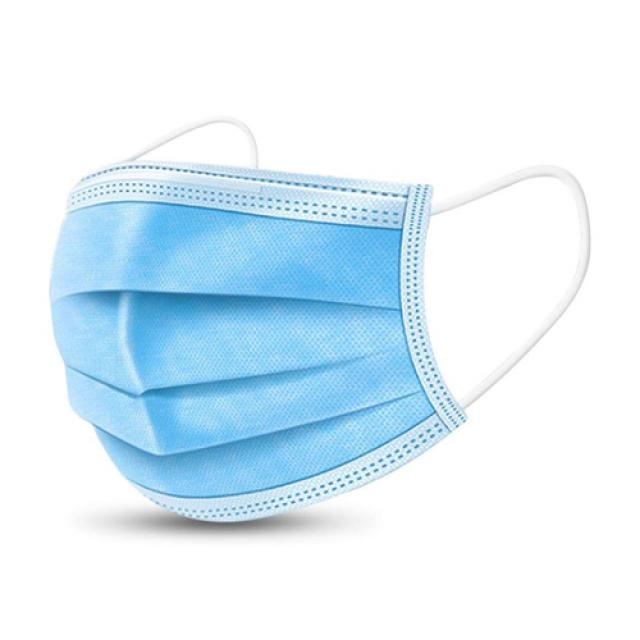non-organic waste: (42, 130, 594, 530)
